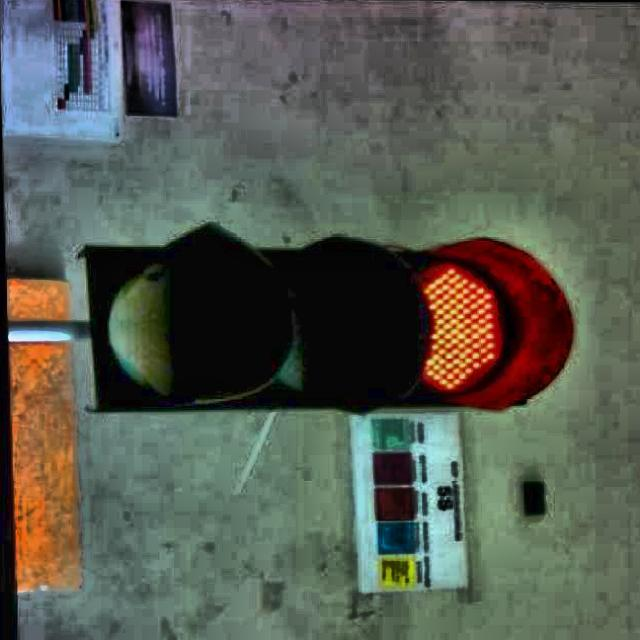red: (75, 241, 578, 411)
